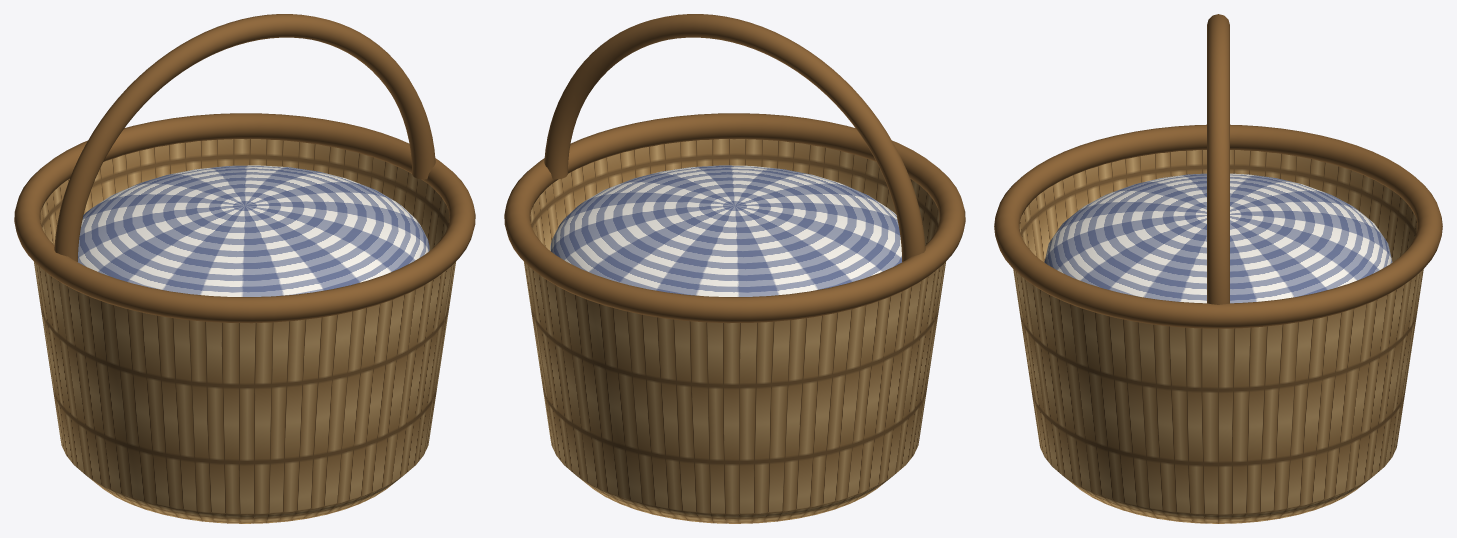
Rendered from market-basket.glb.
3 renders of one model, left to right at view 1: azimuth 30°, elevation 25°; view 2: azimuth 150°, elevation 25°; view 3: azimuth 270°, elevation 25°, orthographic. The views are drawn at different scales.
Parts seen in each view (by area): view 1: basket, cloth, rim, handle; view 2: basket, cloth, rim, handle; view 3: basket, cloth, rim, handle.
Boxes of the visible parts, x1,y1,x2,y2 form: basket: (34, 139, 455, 523); cloth: (78, 165, 429, 296); rim: (14, 113, 475, 323); handle: (54, 14, 435, 261); basket: (524, 139, 945, 523); cloth: (550, 165, 901, 296); rim: (504, 113, 965, 323); handle: (544, 14, 925, 261); basket: (1013, 150, 1423, 523); cloth: (1044, 173, 1392, 303); rim: (994, 124, 1442, 328); handle: (1207, 14, 1229, 304).
Size of the model in its own units: 0.424 by 0.441 by 0.424.
Materials: 3 (2 with a texture image).
